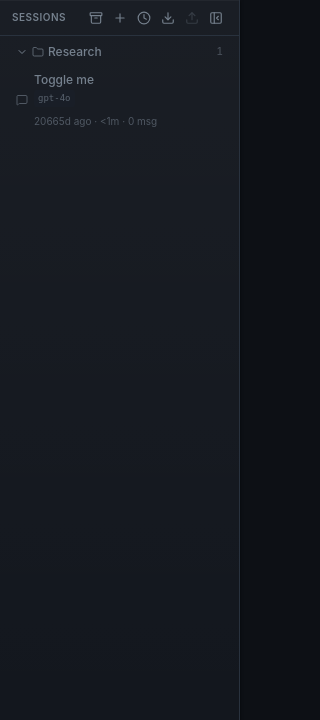
Scenario: Session groups — collapse/expand › toggles collapse state on subsequent clicks
Click the text "Research".
click(75, 52)  # box [8,40,231,64]
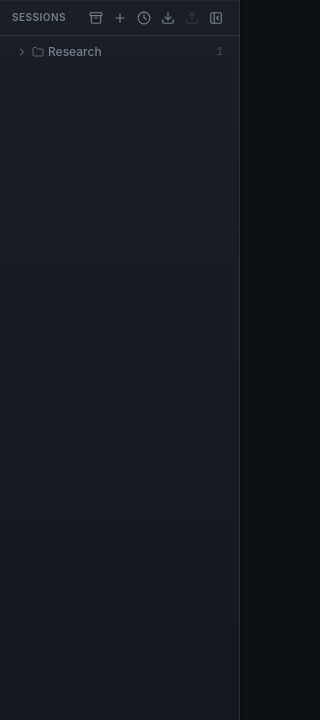
Now the button "Toggle me" is gone
Click the text "Research".
click(75, 52)  # box [8,40,231,64]
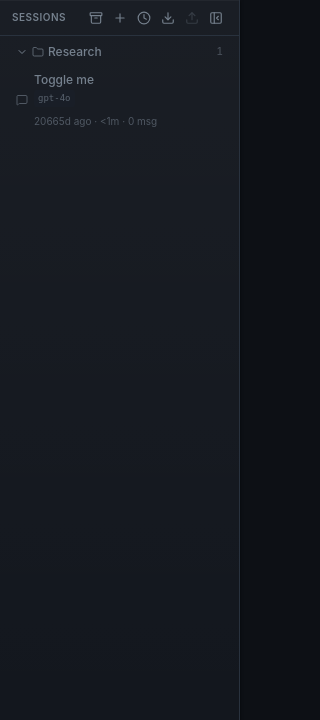
Now the text "Toggle me" is shown, box [34,72,94,87]
